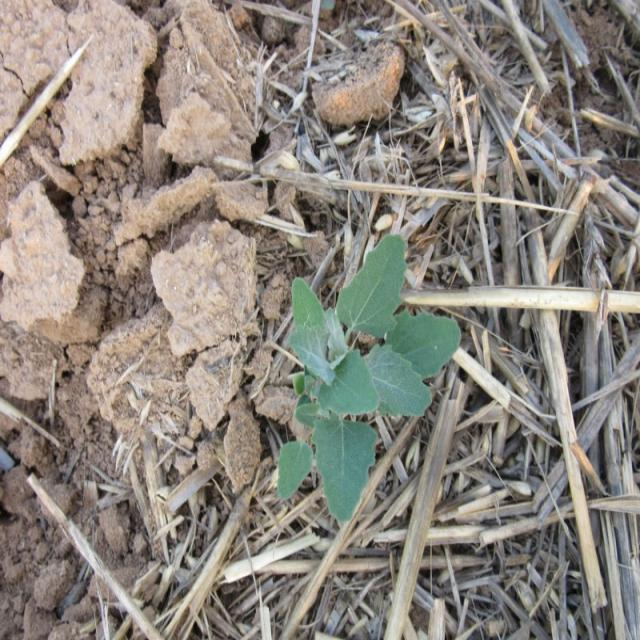ca: (278, 235, 460, 525)
